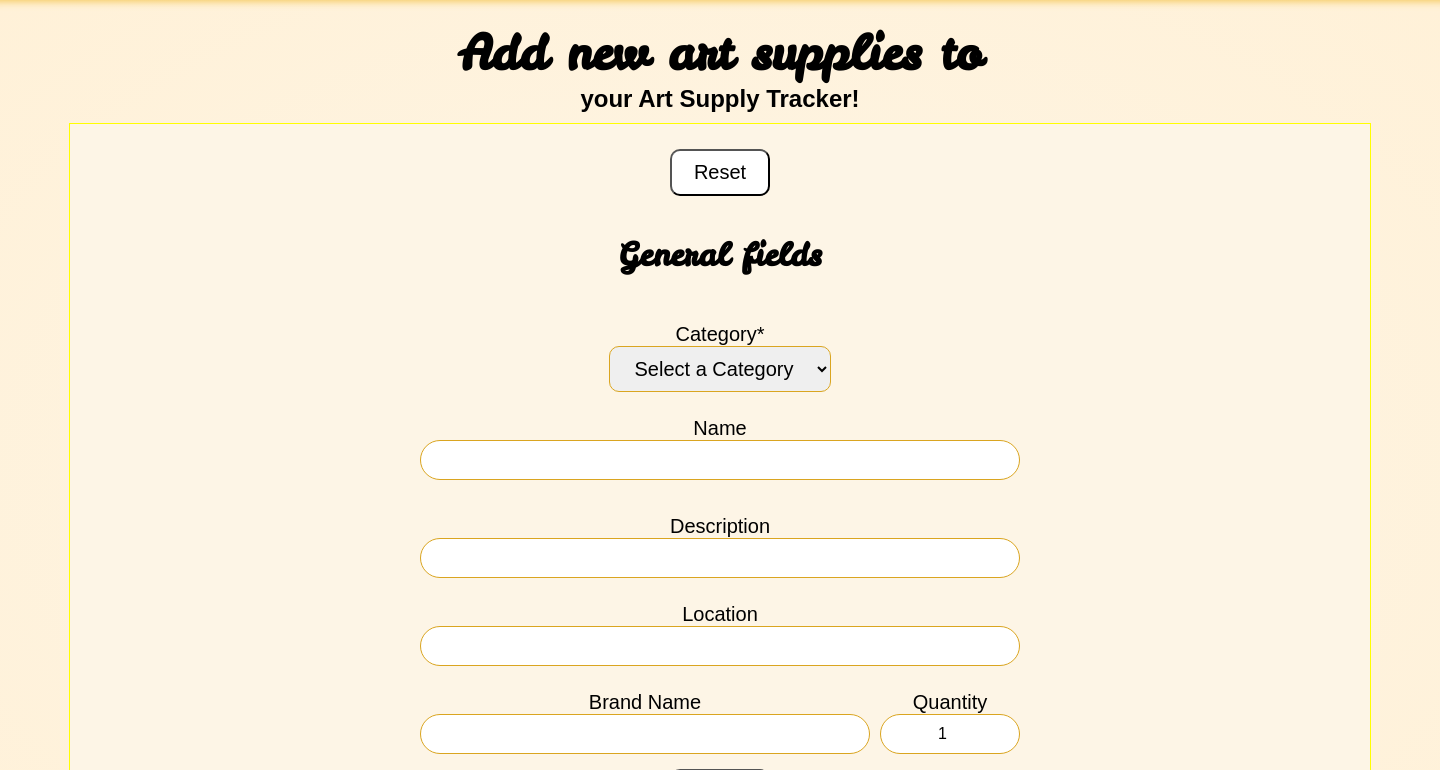
it: selecting a category loads its fields
The width and height of the screenshot is (1440, 770).
Expected: the text "Canvas fields" is not shown
Select "Canvas" in the dropdown with id "Category" at [720, 369], box 609,346 -> 831,392
(page scrolled)
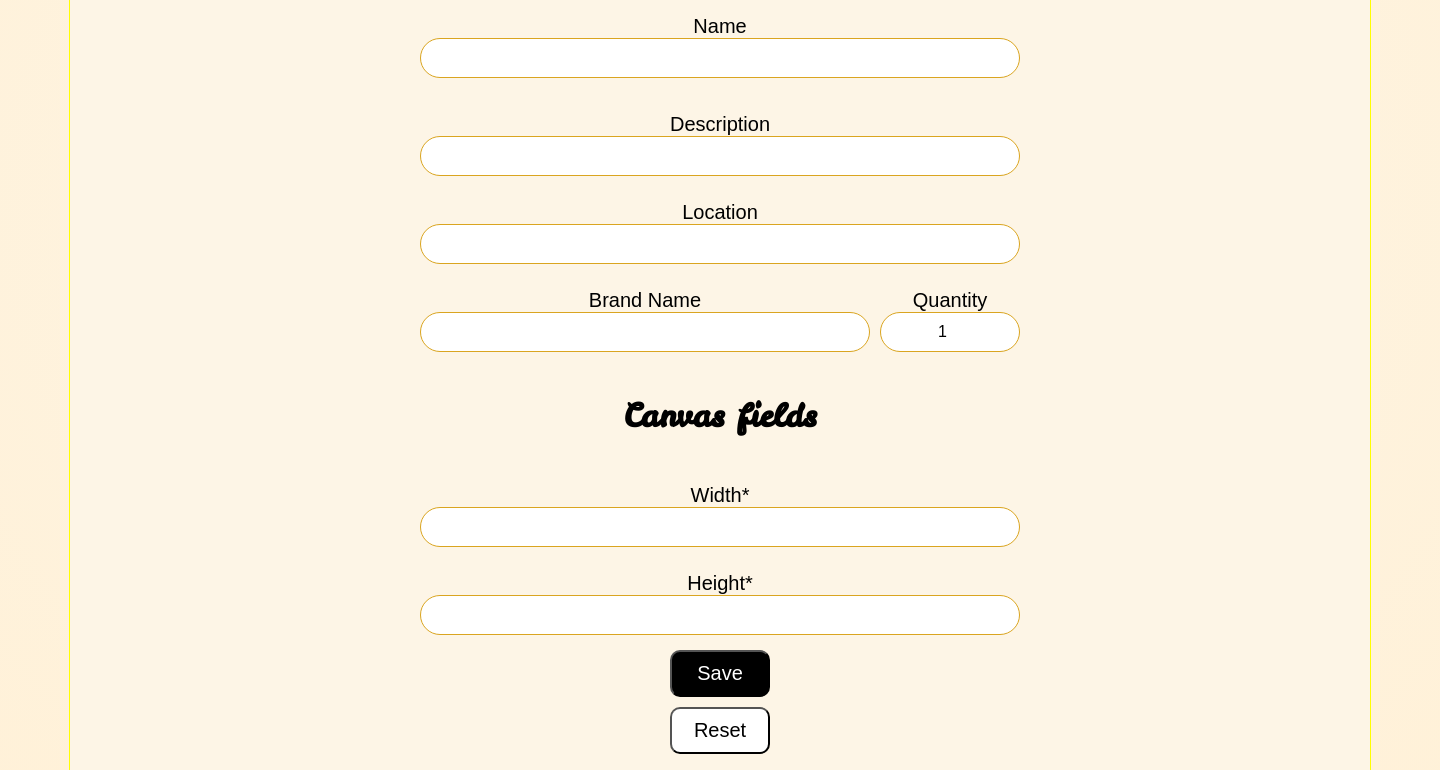
Expected: the heading "Canvas fields" is shown, 623,394 -> 817,437
